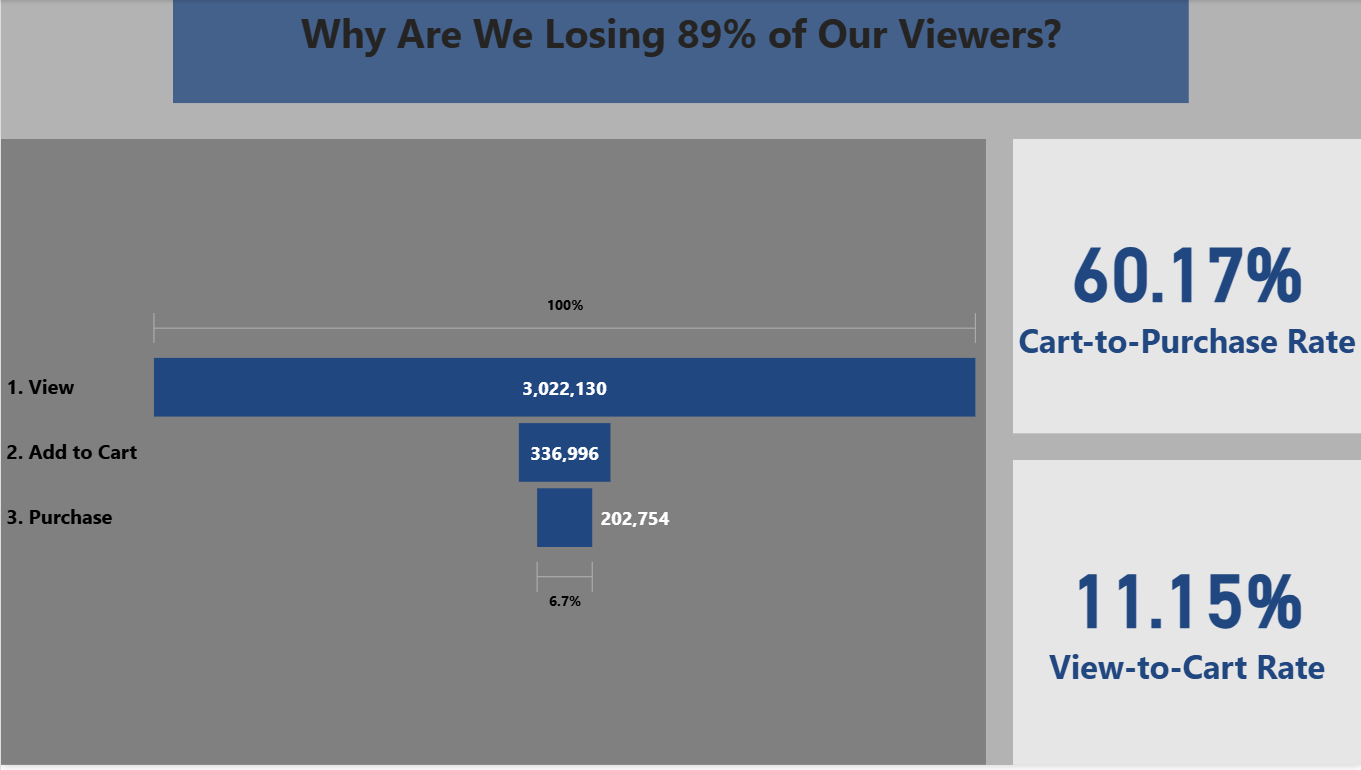

This screenshot's page, from the dashboard's own definition file:
{"tool":"powerbi","page":{"name":"Page 1","canvas":[1280,720],"ordinal":0},"visuals":[{"type":"funnel","fields":{"Category":["funnel_FINAL_for_powerbi.Step"],"Y":["Sum(funnel_FINAL_for_powerbi.User_Count)"]},"box":[0,130.8,927.1,589.2],"z":0},{"type":"card","fields":{"Values":["funnel_FINAL_for_powerbi.Cart-to-Purchase Rate"]},"box":[952.5,130.8,327.5,276.7],"z":1000},{"type":"card","fields":{"Values":["funnel_FINAL_for_powerbi.View-to-Cart Rate"]},"box":[952.5,432.9,327.5,287.1],"z":2000},{"type":"textbox","box":[161.9,0,956.2,96.9],"z":3000}]}

Visuals, with their boxes in screenshot pixels (x1, y1, x2, y2), scaled from the page's 1280x720 canvas onto the 1361x770 screenshot:
funnel - funnel_FINAL_for_powerbi.Step x Sum(funnel_FINAL_for_powerbi.User_Count): [left=0, top=140, right=986, bottom=769]
card - funnel_FINAL_for_powerbi.Cart-to-Purchase Rate: [left=1013, top=140, right=1360, bottom=436]
card - funnel_FINAL_for_powerbi.View-to-Cart Rate: [left=1013, top=463, right=1360, bottom=769]
textbox: [left=172, top=0, right=1189, bottom=104]
